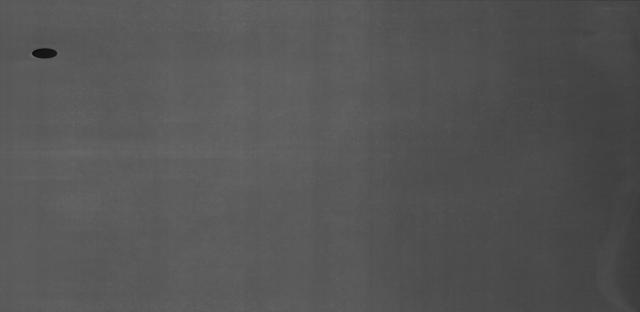punching_hole: (27, 43, 62, 63)
